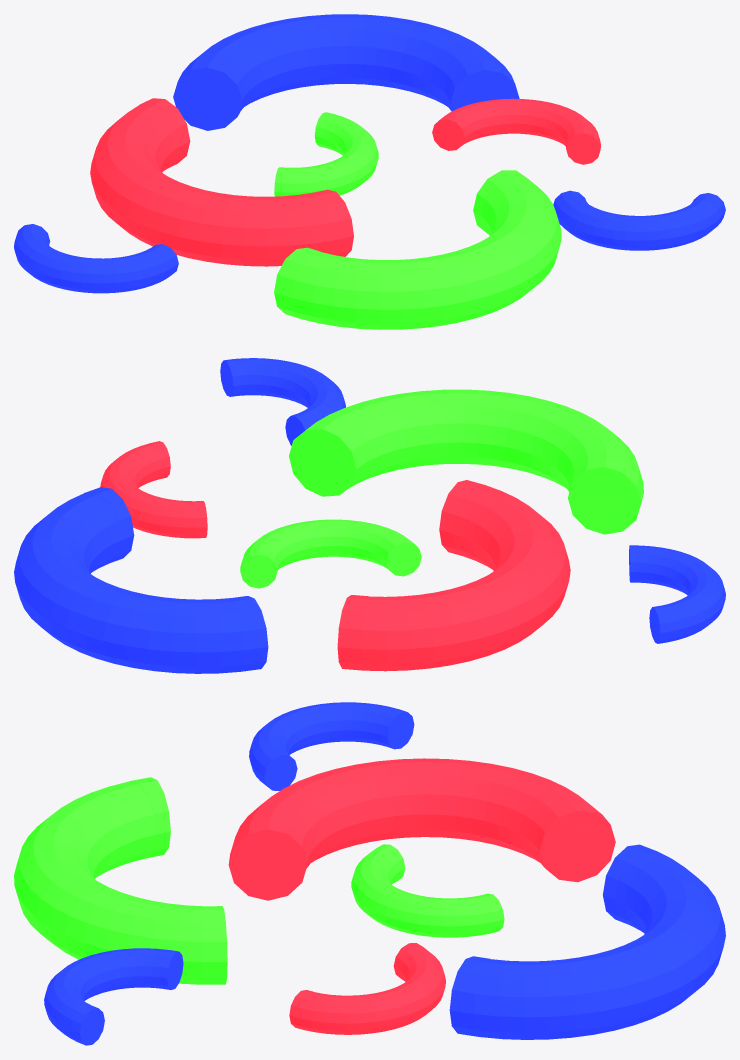
Rendered from cabeli.fbx.
3 renders of one model, top to bottom at view 1: azimuth 30°, elevation 25°; view 2: azimuth 150°, elevation 25°; view 3: azimuth 270°, elevation 25°, orthographic. The views are drawn at different scales.
Parts seen in each view (by area): view 1: Torus.003, Torus.001, Torus, Torus.005, Torus.002, Torus.006, Torus.004; view 2: Torus.001, Torus.003, Torus, Torus.004, Torus.006, Torus.002, Torus.005; view 3: Torus, Torus.003, Torus.001, Torus.006, Torus.002, Torus.004, Torus.005.
Boxes of the visible parts, x1,y1,x2,y2 form: Torus.003: [173, 14, 519, 130]; Torus.001: [274, 170, 561, 329]; Torus: [90, 98, 353, 266]; Torus.005: [553, 190, 725, 250]; Torus.002: [432, 98, 600, 164]; Torus.006: [14, 224, 178, 293]; Torus.004: [274, 112, 378, 196]; Torus.001: [289, 389, 643, 534]; Torus.003: [14, 487, 268, 673]; Torus: [337, 480, 570, 671]; Torus.004: [240, 519, 421, 588]; Torus.006: [629, 545, 725, 643]; Torus.002: [100, 441, 207, 538]; Torus.005: [220, 358, 345, 445]; Torus: [228, 758, 615, 900]; Torus.003: [449, 844, 725, 1039]; Torus.001: [14, 777, 227, 984]; Torus.006: [249, 702, 414, 790]; Torus.002: [289, 943, 445, 1034]; Torus.004: [351, 844, 504, 937]; Torus.005: [44, 948, 183, 1045].
Size of the model in its own units: 47.96 by 5.02 by 45.13.
